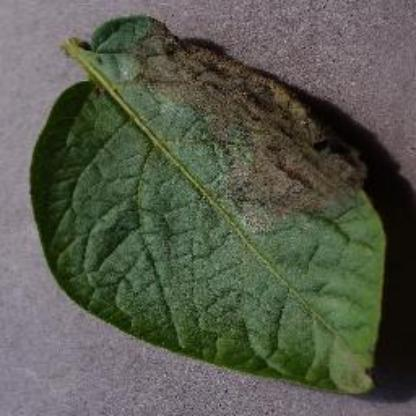Late-Blight: (28, 25, 382, 398)
